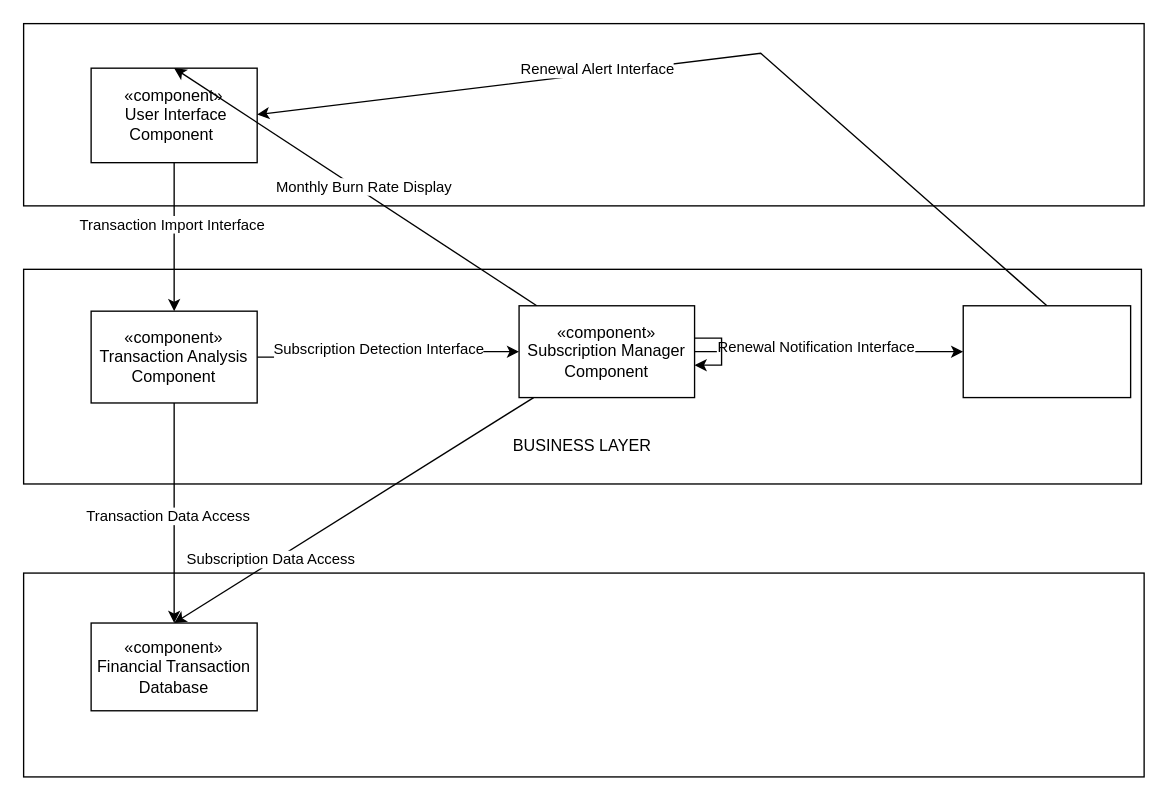
This 1168x801 diagram has some shape labels left out. Here are the shapes that lost their labels. From the top down, the box of each, then its label:
(22, 22, 1144, 206): PRESENTATION LAYER
(962, 304, 1131, 398): «component» Renewal Alert Component
(22, 572, 1144, 777): DATA LAYER
